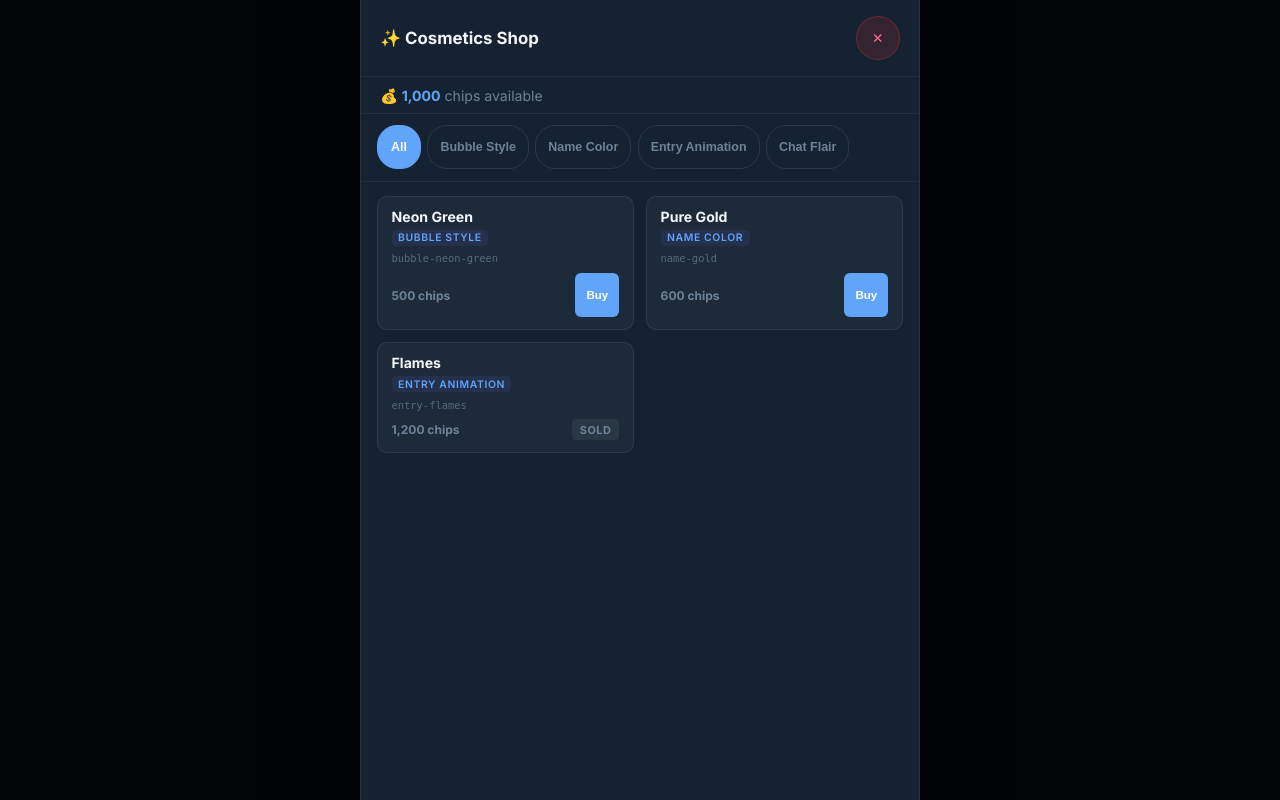
it: CosmeticsShop › category filter tabs › filtering by "Name Color" shows only nameColor items
The image size is (1280, 800).
Click the button "Name Color".
click(583, 147)  # box [535, 125, 631, 169]
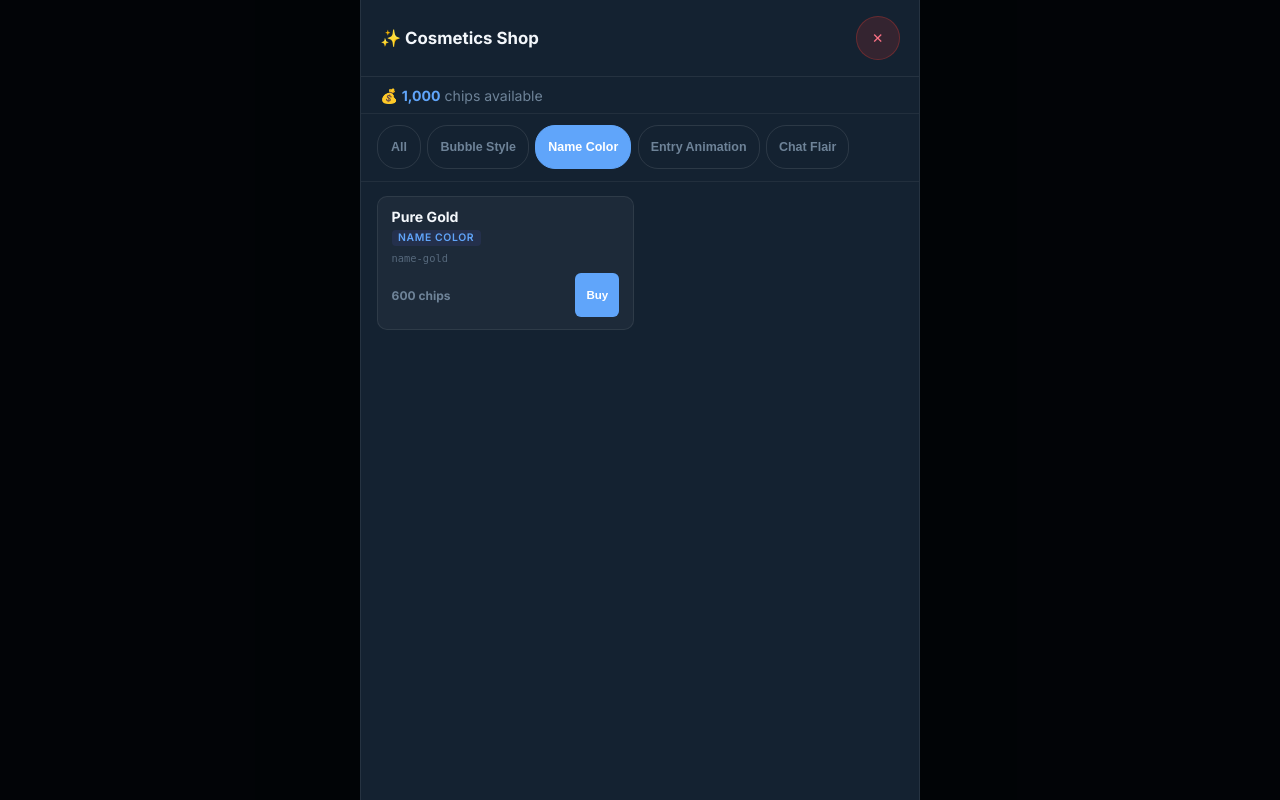
Expected: the text "Pure Gold" is shown, [392, 208, 458, 225]
Expected: the text "Neon Green" is gone
